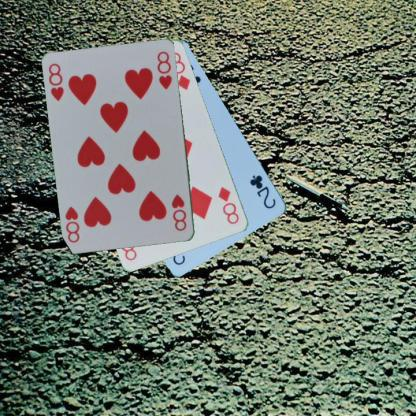2c: (248, 172, 278, 210)
8d: (215, 184, 241, 226)
8h: (46, 61, 66, 102), (168, 192, 187, 232)
